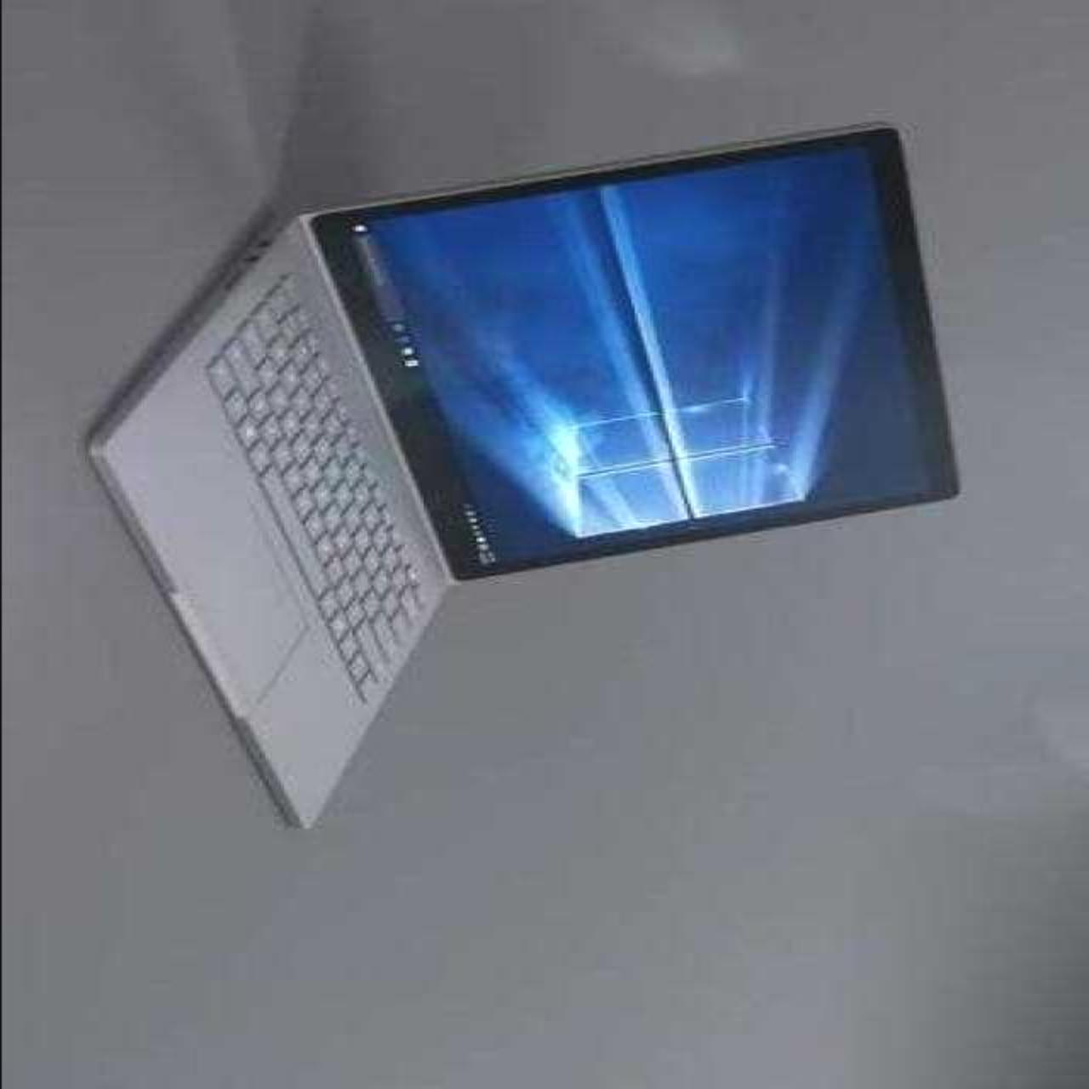laptop: (90, 131, 958, 842)
